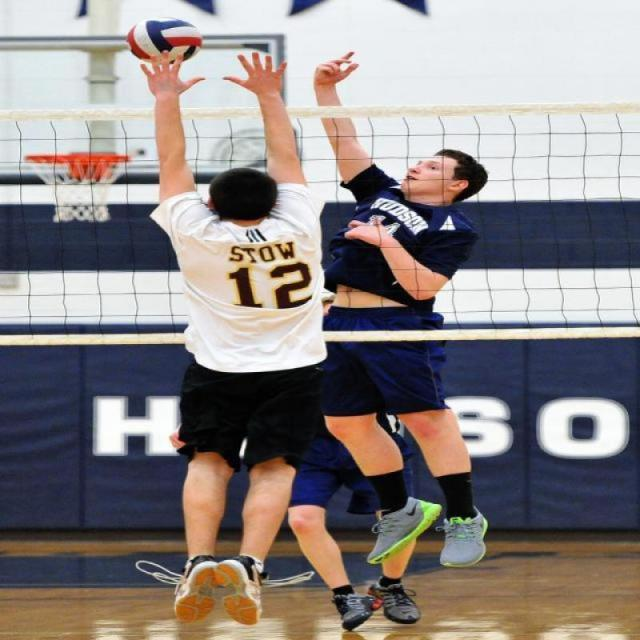volleyball: (127, 12, 207, 63)
